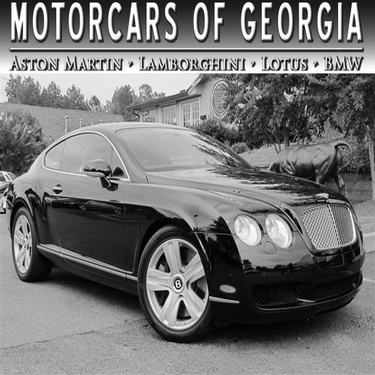car: (1, 121, 369, 348)
